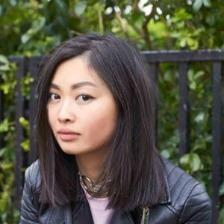Non hijab: (31, 31, 169, 211)
